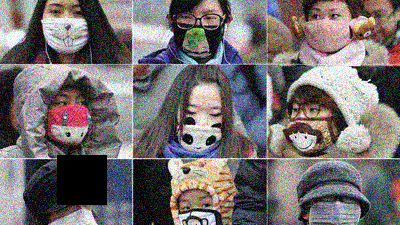with_mask: (38, 3, 90, 55), (285, 97, 335, 151), (173, 7, 225, 58), (46, 90, 93, 146), (175, 101, 225, 148), (307, 7, 351, 53), (305, 196, 362, 225), (49, 195, 93, 225), (178, 193, 218, 225)
